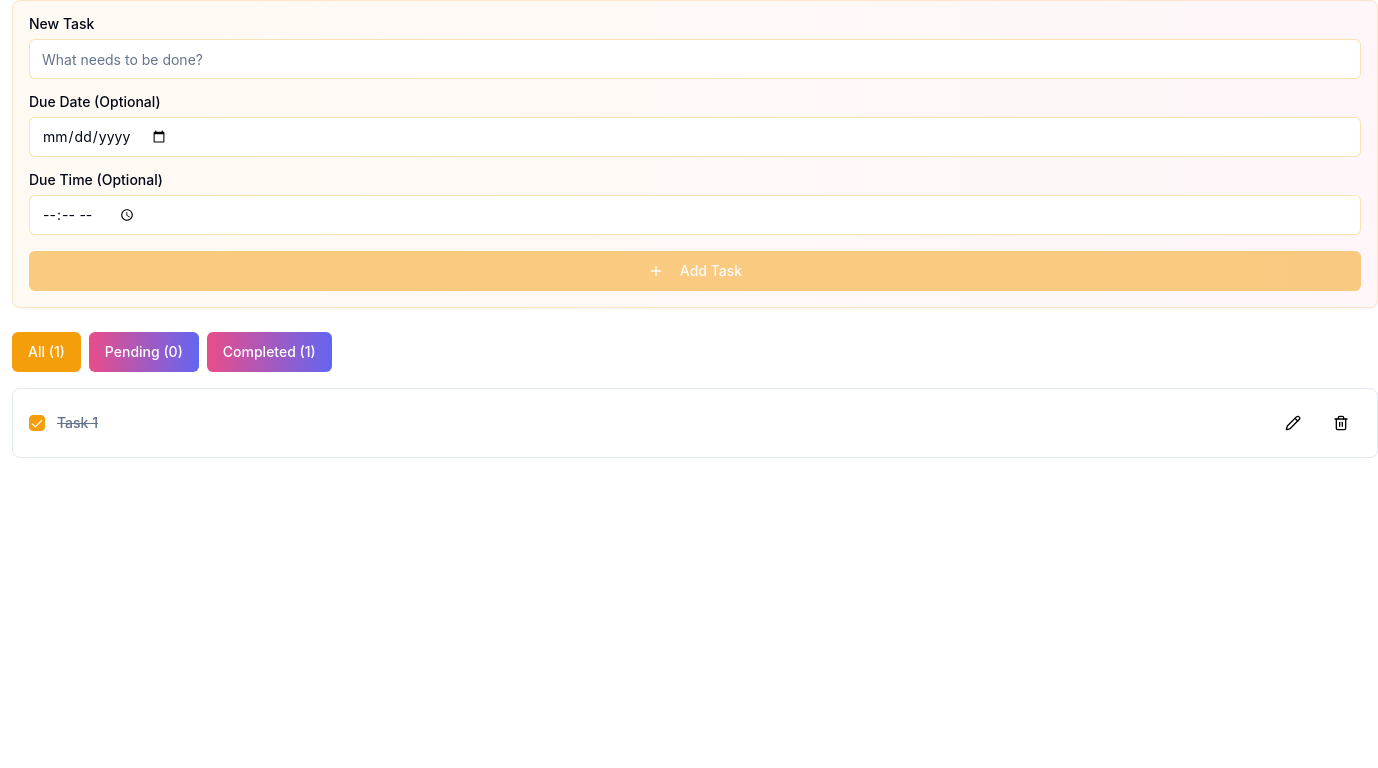
Test: TaskList › shows "No pending tasks" empty state in pending filter
Step 1. Click the button "Pending (0)" → (144, 352), box [89,332,199,372]
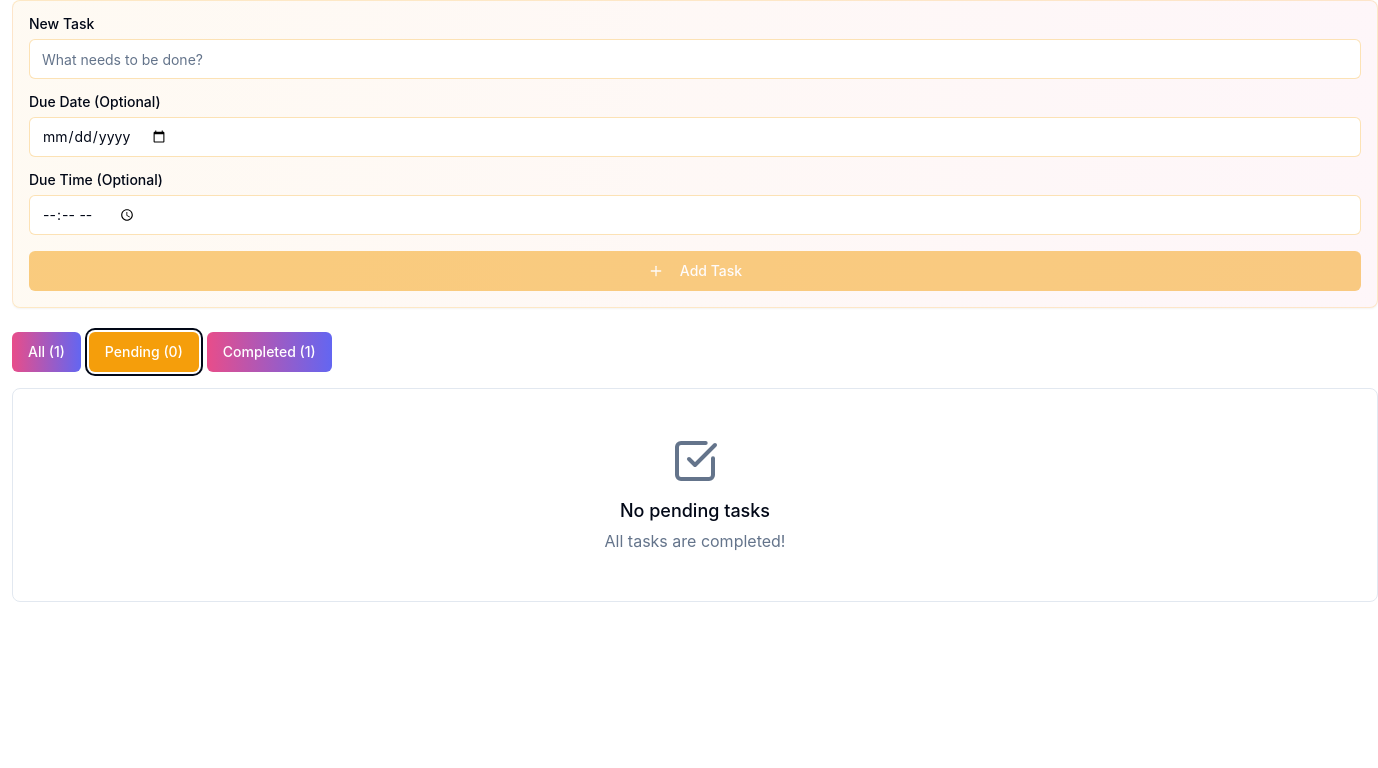
Result: the heading "No pending tasks" is shown at [620,500,770,521]
